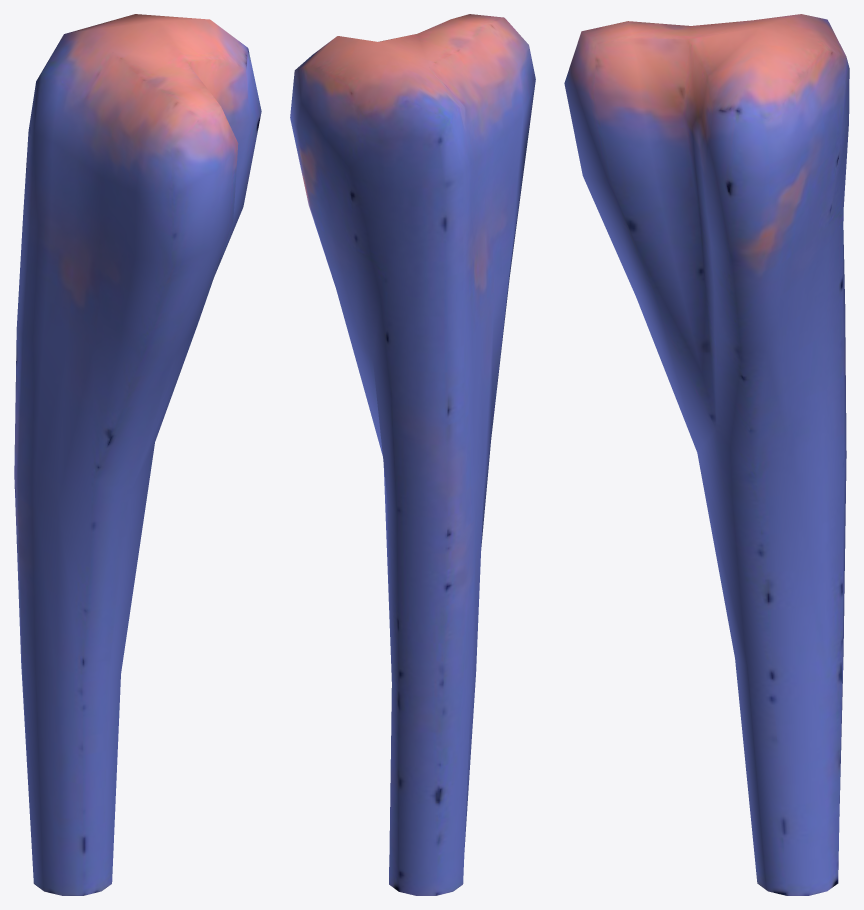
Rendered from 39-Bubble.fbx.
3 renders of one model, left to right at view 1: azimuth 30°, elevation 25°; view 2: azimuth 150°, elevation 25°; view 3: azimuth 270°, elevation 25°, orthographic. The views are drawn at different scales.
Parts seen in each view (by area): view 1: 39-Bubble_LOD00; view 2: 39-Bubble_LOD00; view 3: 39-Bubble_LOD00.
Boxes of the visible parts, x1=… form: 39-Bubble_LOD00: x1=14, y1=14, x2=261, y2=895; 39-Bubble_LOD00: x1=290, y1=14, x2=535, y2=895; 39-Bubble_LOD00: x1=564, y1=14, x2=849, y2=895.
Size of the model in its own units: 9.49 by 37.28 by 10.89.
